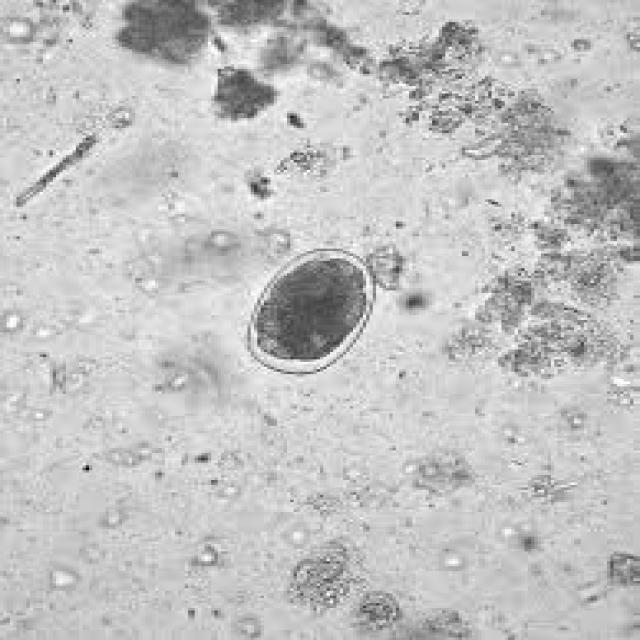Ancylostoma Spp: (223, 235, 394, 388)
